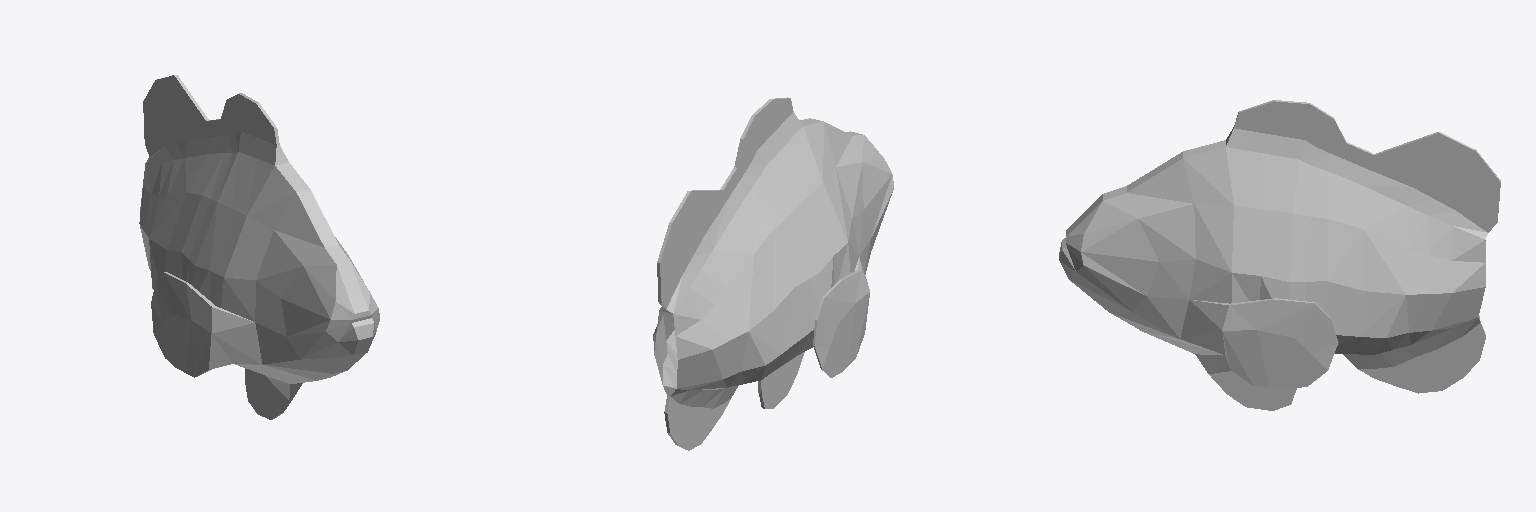
Rendered from bodyFish.obj.
The picture shows the model from 3 angles: view 1: azimuth 30°, elevation 25°; view 2: azimuth 150°, elevation 25°; view 3: azimuth 270°, elevation 25°; orthographic projection.
Parts seen in each view (by area): view 1: polySurface1 TropicalFish13:TropicalFish12; view 2: polySurface1 TropicalFish13:TropicalFish12; view 3: polySurface1 TropicalFish13:TropicalFish12.
Boxes of the visible parts, box(x1,y1,x2,y2) form: polySurface1 TropicalFish13:TropicalFish12: box(139, 75, 379, 419); polySurface1 TropicalFish13:TropicalFish12: box(653, 97, 893, 450); polySurface1 TropicalFish13:TropicalFish12: box(1059, 100, 1500, 410).
Size of the model in its own units: 2.4 by 4.53 by 5.86.